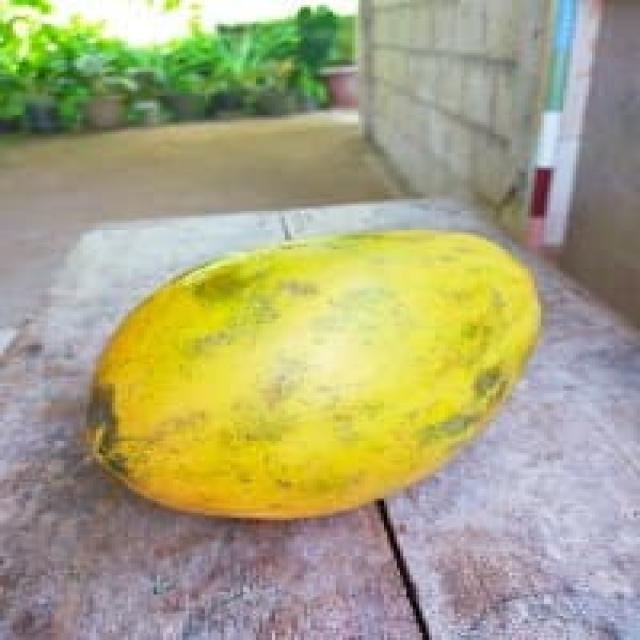Pepaya: (83, 225, 541, 520)
